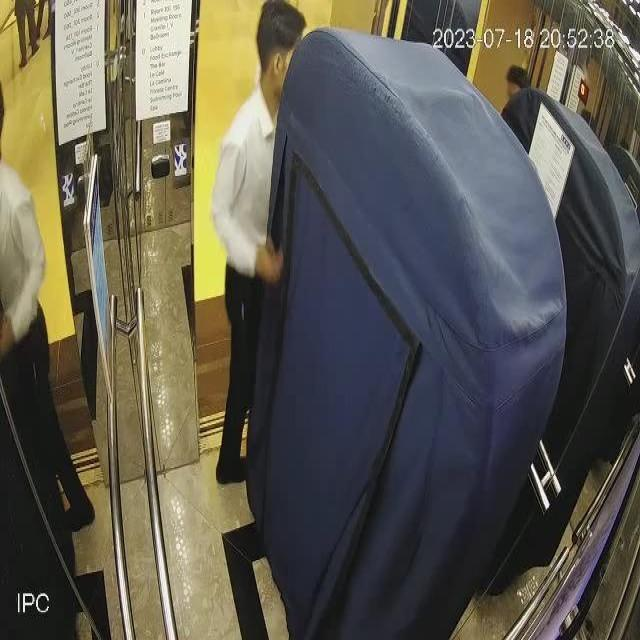person: (0, 69, 101, 571), (214, 0, 305, 485)
